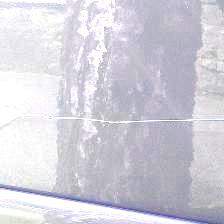door_scratch: (3, 94, 221, 152)
